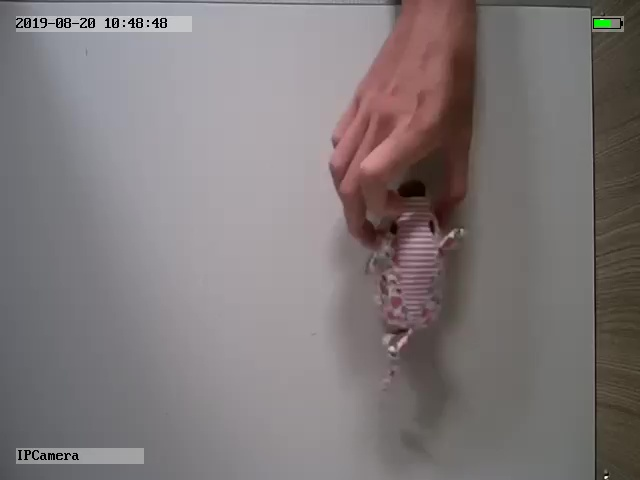pig: (365, 177, 470, 390)
